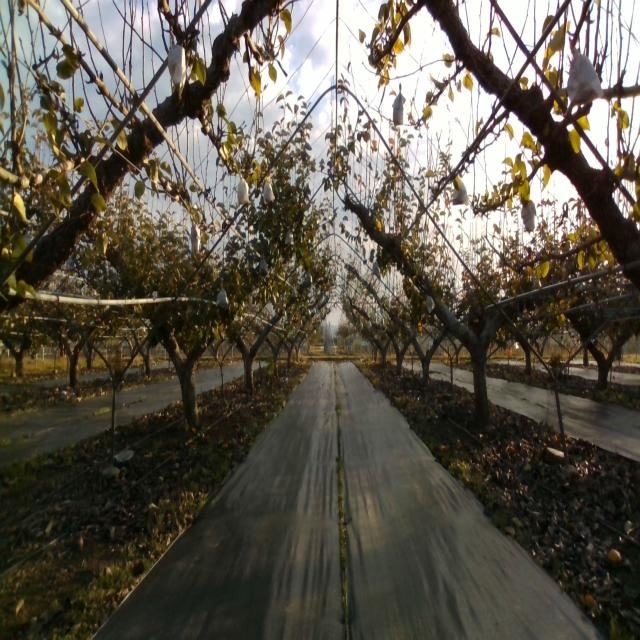pearbags: (567, 46, 604, 115), (168, 30, 186, 97), (392, 83, 406, 128), (520, 199, 537, 232), (452, 178, 468, 206), (237, 173, 250, 206), (190, 214, 201, 252), (263, 177, 275, 205), (216, 285, 228, 310)
